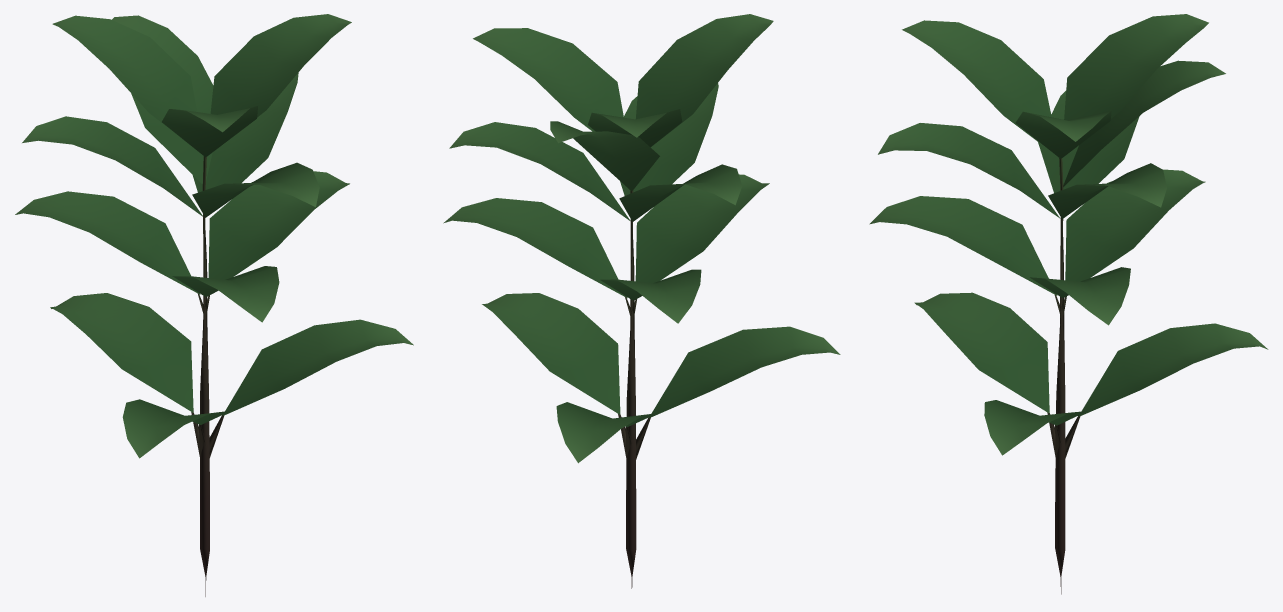
File: plants-leafy-plants-rubber-plant_v3.glb
3 renders of one model, left to right at view 1: azimuth 30°, elevation 25°; view 2: azimuth 150°, elevation 25°; view 3: azimuth 270°, elevation 25°, orthographic.
Parts seen in each view (by area): view 1: Rubber Plant_v3; view 2: Rubber Plant_v3; view 3: Rubber Plant_v3.
Part boxes in pixels (box(x1,y1,x2,y2)): Rubber Plant_v3: box(15, 14, 413, 596); Rubber Plant_v3: box(443, 14, 840, 588); Rubber Plant_v3: box(869, 14, 1268, 594).
Size of the model in its own units: 0.4967 by 0.8 by 0.5338.
